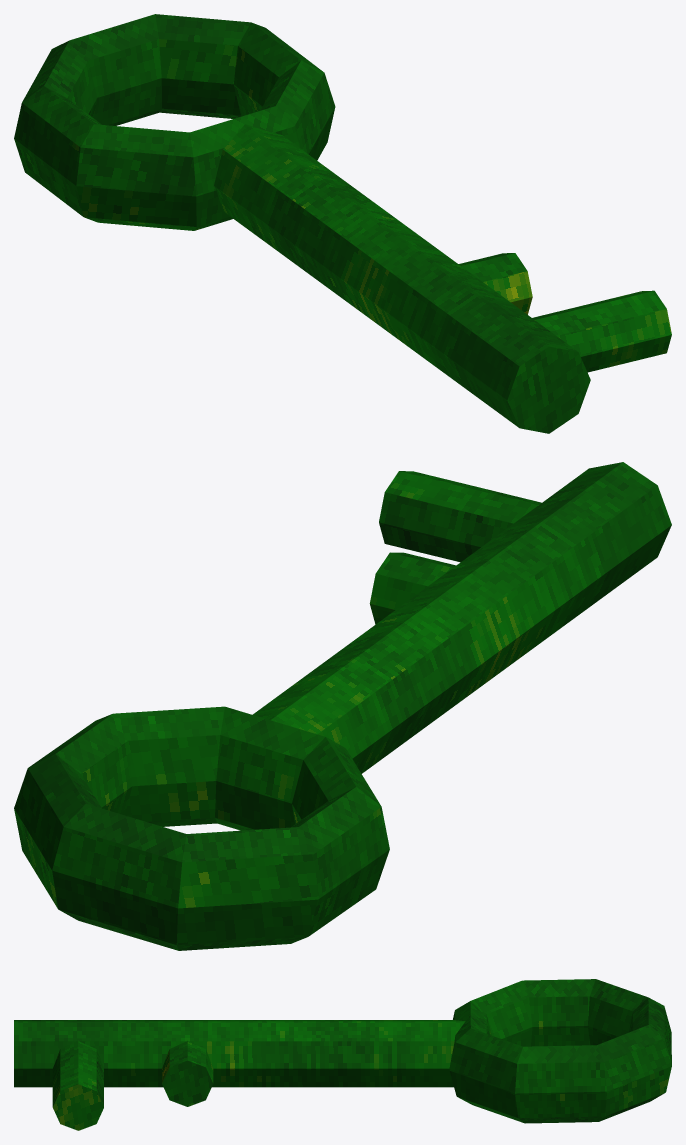
File: green _key.glb
The picture shows the model from 3 angles, top to bottom: view 1: azimuth 30°, elevation 25°; view 2: azimuth 150°, elevation 25°; view 3: azimuth 270°, elevation 25°; orthographic projection. The views are drawn at different scales.
Visible parts, largest first — view 1: Torus; view 2: Torus; view 3: Torus.
Boxes of the visible parts, x1=… form: Torus: x1=14, y1=14, x2=671, y2=433; Torus: x1=14, y1=462, x2=671, y2=950; Torus: x1=14, y1=979, x2=671, y2=1130.
Size of the model in its own units: 0.822 by 0.3164 by 2.21.
1 material, 1 textured.
